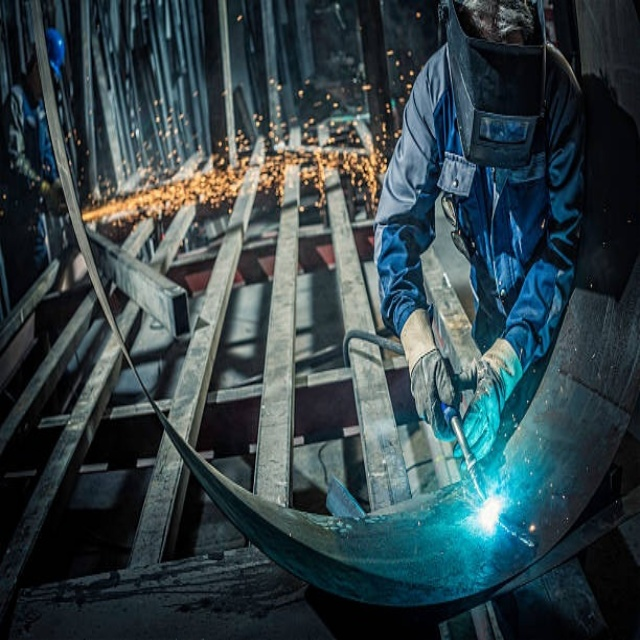Guantes: (450, 333, 531, 474), (395, 307, 453, 438)
